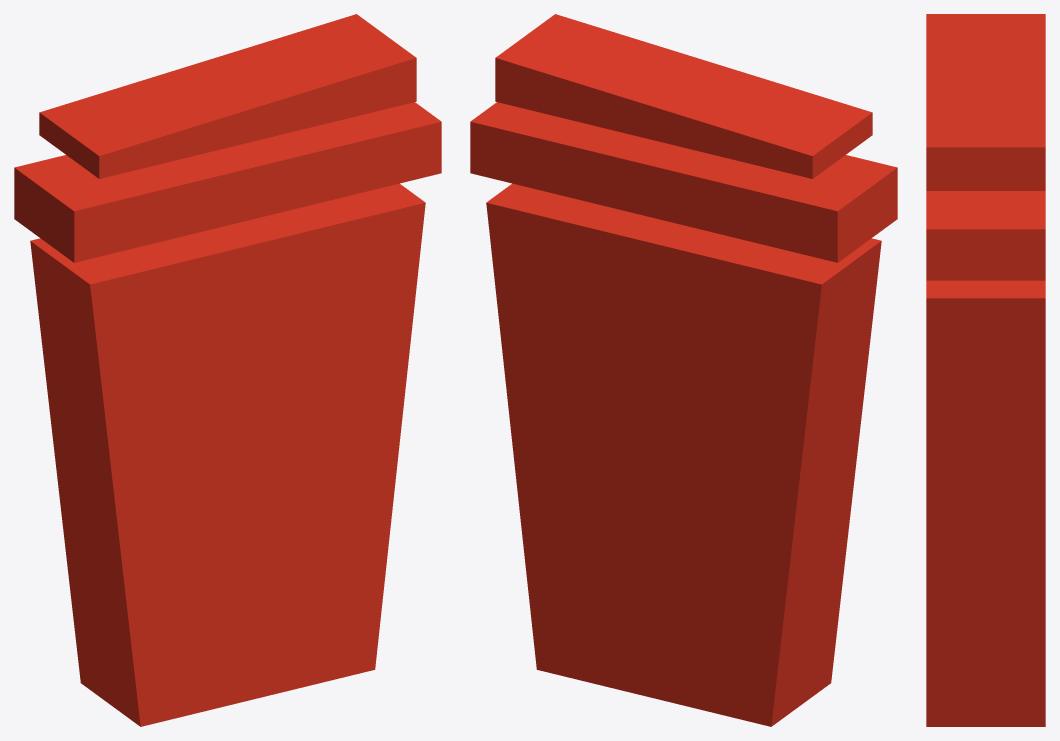
Rendered from Icon_Glass_04.fbx.
3 renders of one model, left to right at view 1: azimuth 30°, elevation 25°; view 2: azimuth 150°, elevation 25°; view 3: azimuth 270°, elevation 25°, orthographic.
Parts seen in each view (by area): view 1: Icon_Glass_04; view 2: Icon_Glass_04; view 3: Icon_Glass_04.
Part boxes in pixels (x1,y1,x2,y2): Icon_Glass_04: (14,14,441,726); Icon_Glass_04: (470,14,897,726); Icon_Glass_04: (926,14,1045,726).
Size of the model in its own units: 42.76 by 66.91 by 12.06.
